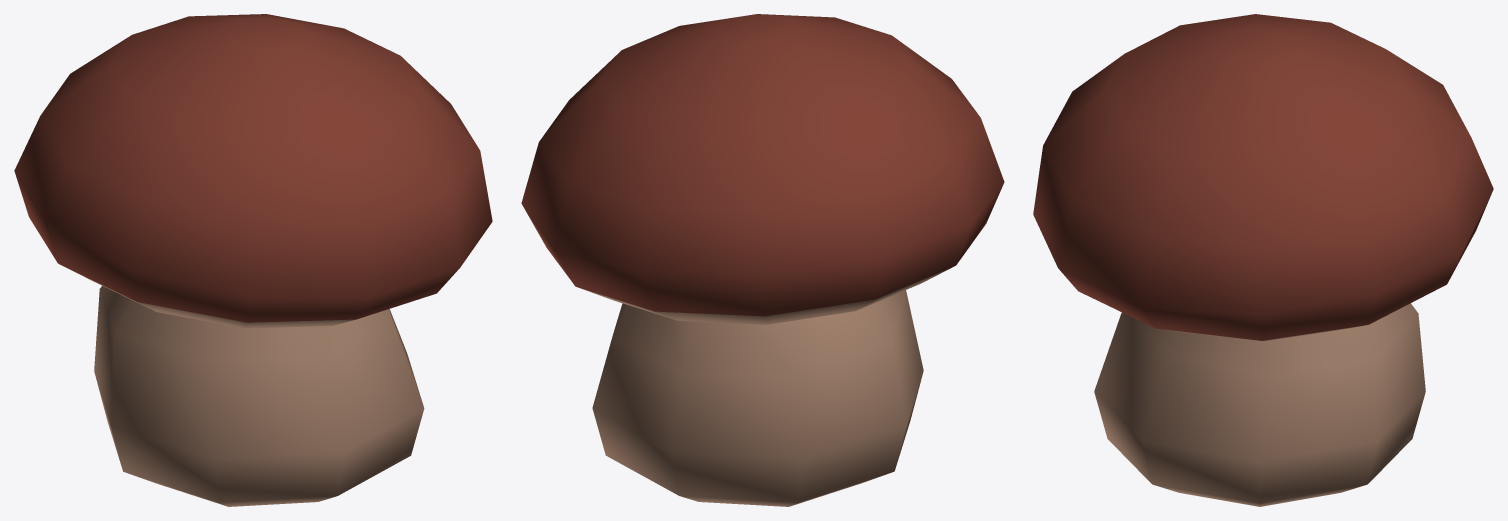
The model's file is Mushroom_01_Small.fbx.
The picture shows the model from 3 angles, left to right: view 1: azimuth 30°, elevation 25°; view 2: azimuth 150°, elevation 25°; view 3: azimuth 270°, elevation 25°; orthographic projection. The views are drawn at different scales.
Visible parts, largest first — view 1: Mushroom_01_Small; view 2: Mushroom_01_Small; view 3: Mushroom_01_Small.
Part boxes in pixels (<box>): Mushroom_01_Small: <box>14,14,492,506</box>; Mushroom_01_Small: <box>521,14,1004,506</box>; Mushroom_01_Small: <box>1033,14,1493,506</box>.
Size of the model in its own units: 0.0795 by 0.0782 by 0.0786.
